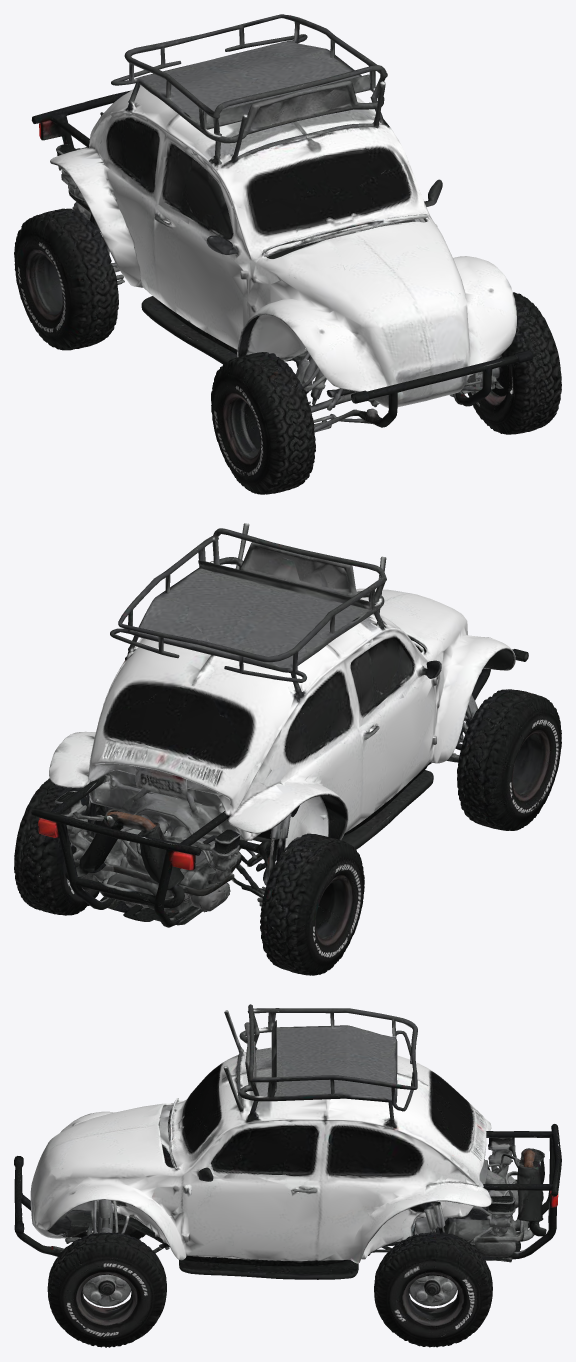
File: BODY_OffRoadBeetle.glb
3 renders of one model, top to bottom at view 1: azimuth 30°, elevation 25°; view 2: azimuth 150°, elevation 25°; view 3: azimuth 270°, elevation 25°, orthographic. The views are drawn at different scales.
Parts seen in each view (by area): view 1: Body, Wheel_FR, Wheel_RR, Wheel_FL; view 2: Body, Wheel_RR, Wheel_FR, Wheel_RL; view 3: Body, Wheel_FL, Wheel_RL.
Part boxes in pixels (x1=…): Body: x1=15, y1=14, x2=547, y2=432; Wheel_FR: x1=211, y1=352, x2=315, y2=494; Wheel_RR: x1=14, y1=208, x2=118, y2=350; Wheel_FL: x1=467, y1=292, x2=561, y2=434; Body: x1=16, y1=523, x2=528, y2=968; Wheel_RR: x1=260, y1=833, x2=364, y2=975; Wheel_FR: x1=457, y1=689, x2=561, y2=830; Wheel_RL: x1=14, y1=778, x2=104, y2=915; Body: x1=14, y1=1004, x2=561, y2=1312; Wheel_FL: x1=47, y1=1232, x2=165, y2=1347; Wheel_RL: x1=374, y1=1232, x2=491, y2=1347.
Bounding box in the file's own units: 1.97 × 1.97 × 3.81.
Materials: 1 (1 with a texture image).
